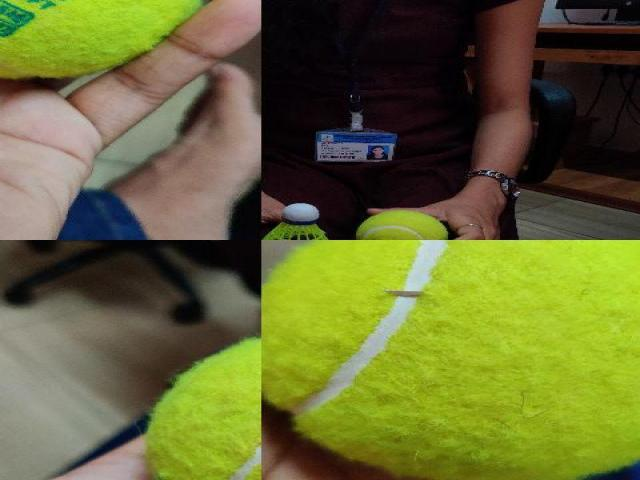tennis-ball: (261, 240, 639, 479), (148, 328, 260, 480), (0, 0, 204, 78), (356, 210, 448, 239)
